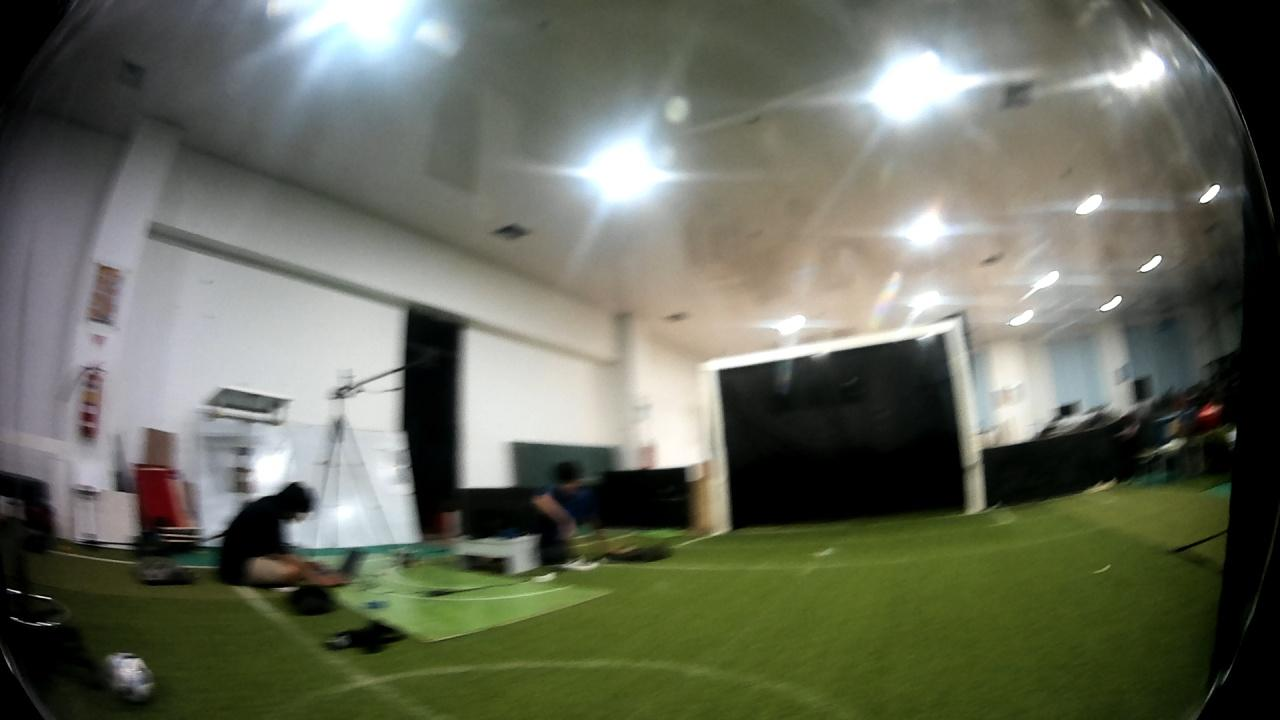ball: (97, 649, 158, 708)
